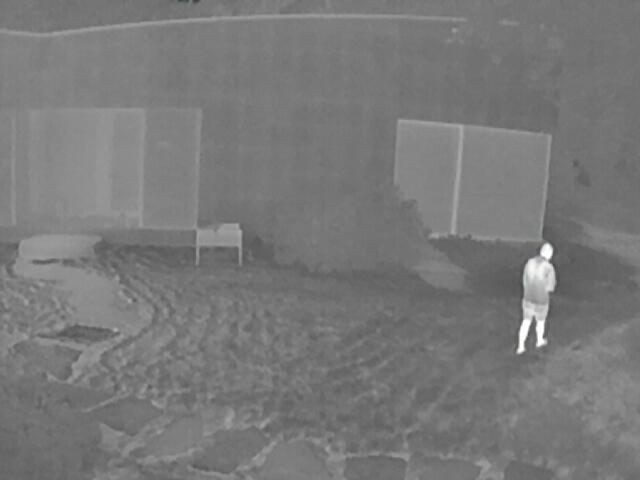person: (517, 240, 557, 356)
